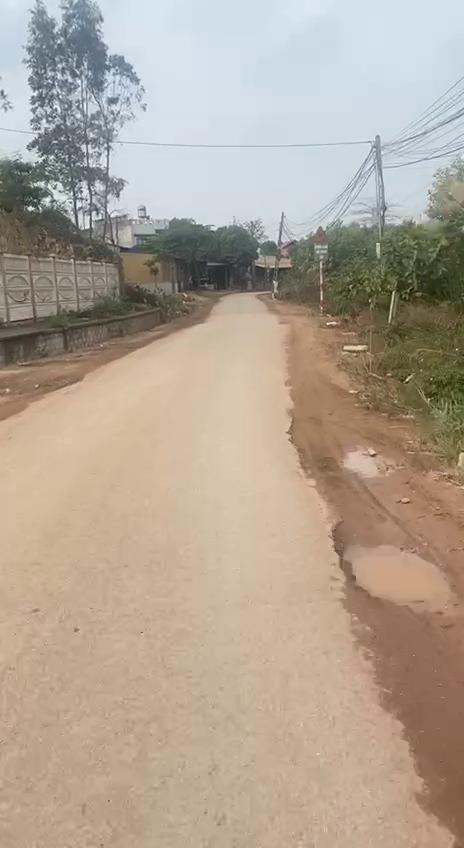pothole: (334, 524, 464, 626)
